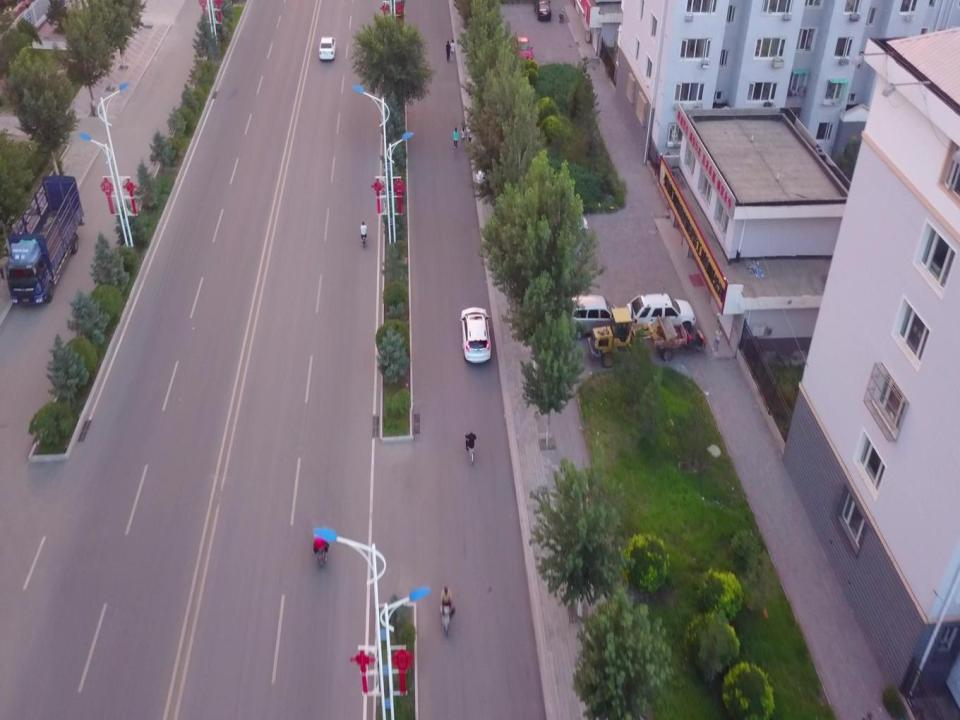car: (628, 292, 696, 330), (563, 294, 620, 331), (461, 306, 491, 365), (510, 37, 533, 62), (318, 37, 336, 60), (537, 0, 553, 22)
truck: (7, 174, 83, 311), (588, 308, 678, 358)
